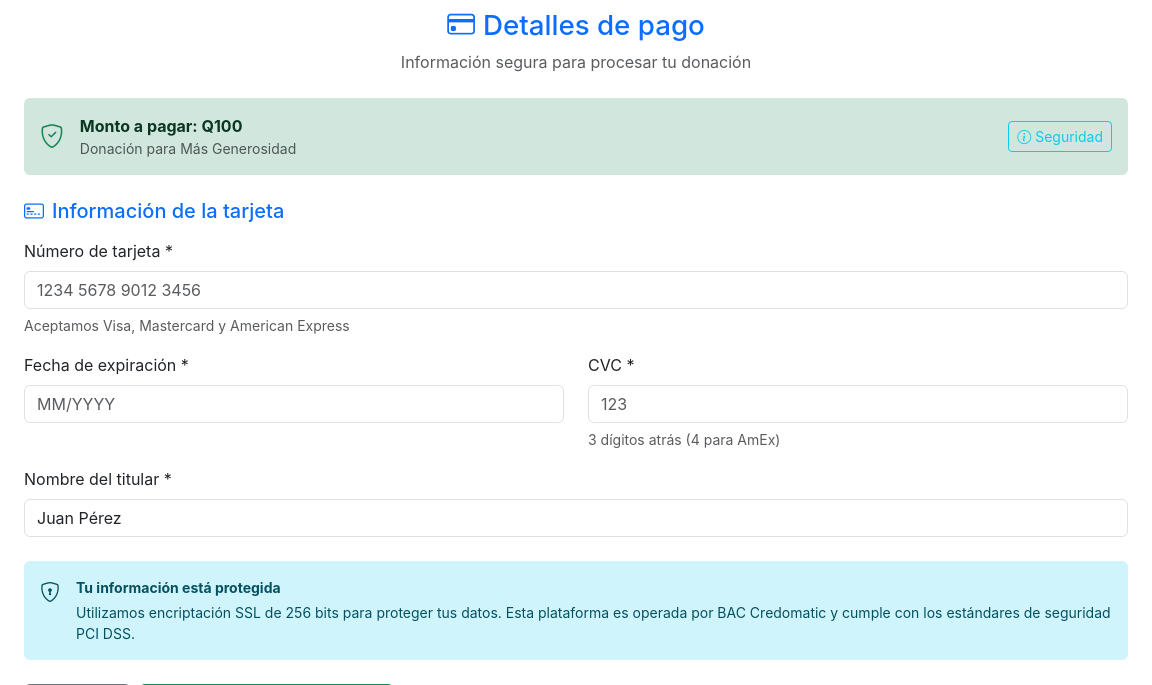
Test case: PaymentDetails › validates expired card
// Use expired date
Type "01/2020" into the field labelled "Fecha de expiración *". click: (294, 404)
box: left=24, top=385, right=564, bottom=423
(page scrolled)
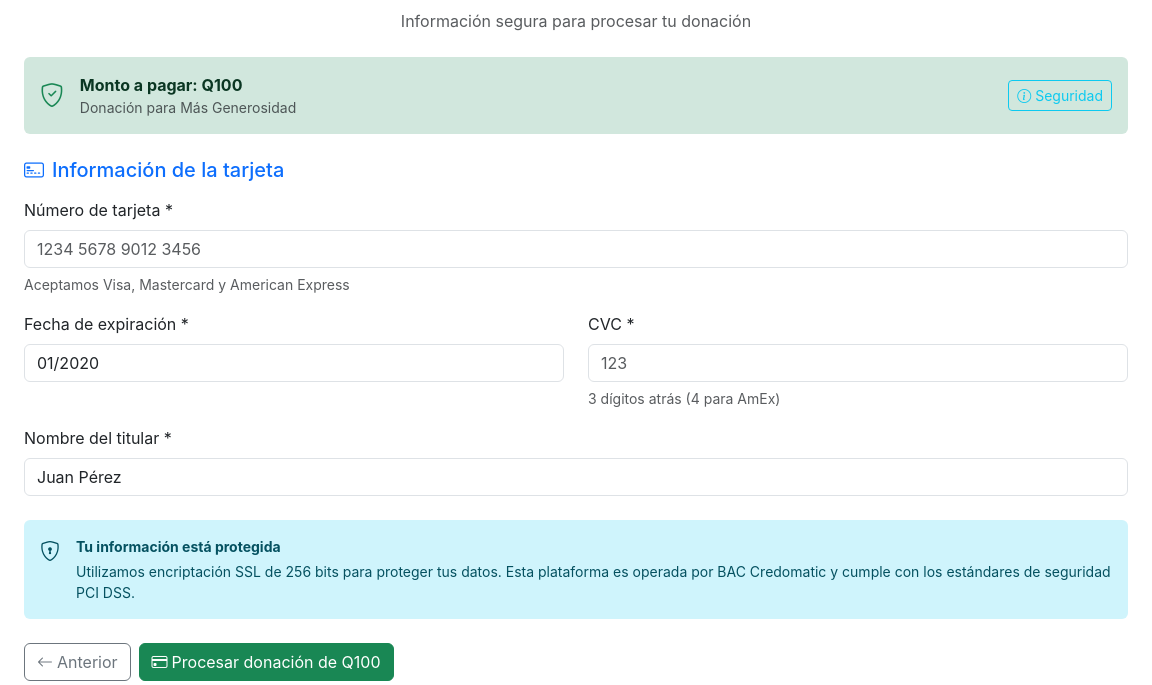
Click the button "Procesar donación de Q100". click: (266, 662)
box: left=139, top=643, right=394, bottom=681
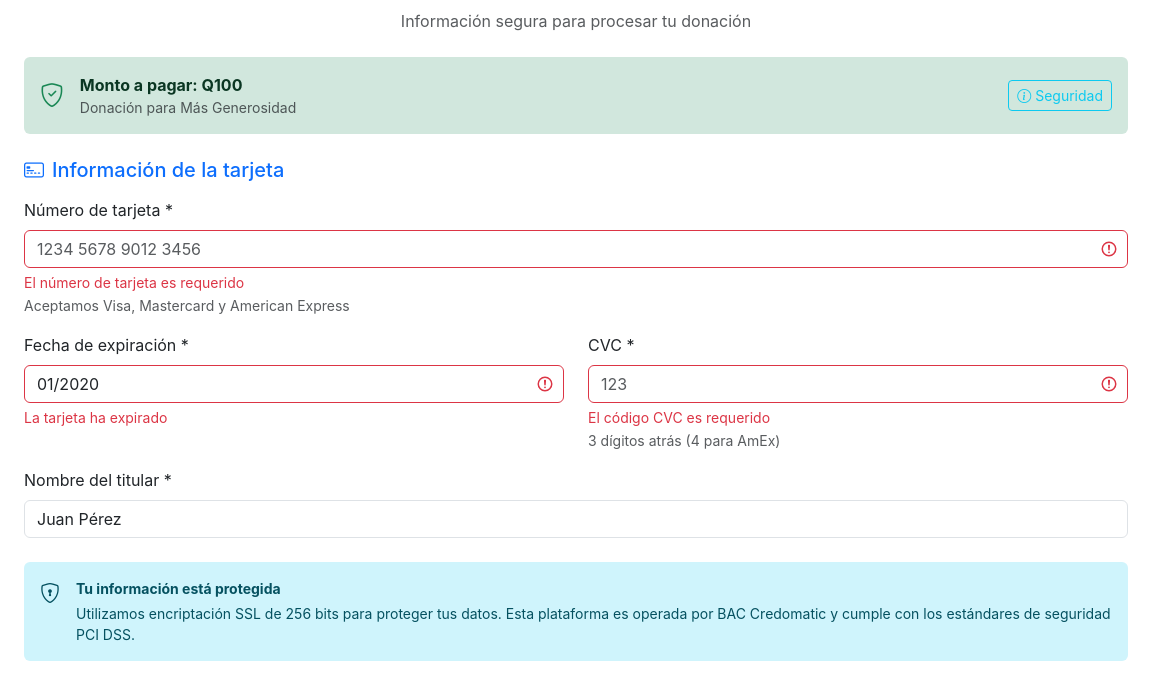
Check: the text "La tarjeta ha expirado" is shown, box left=24, top=409, right=167, bottom=426
